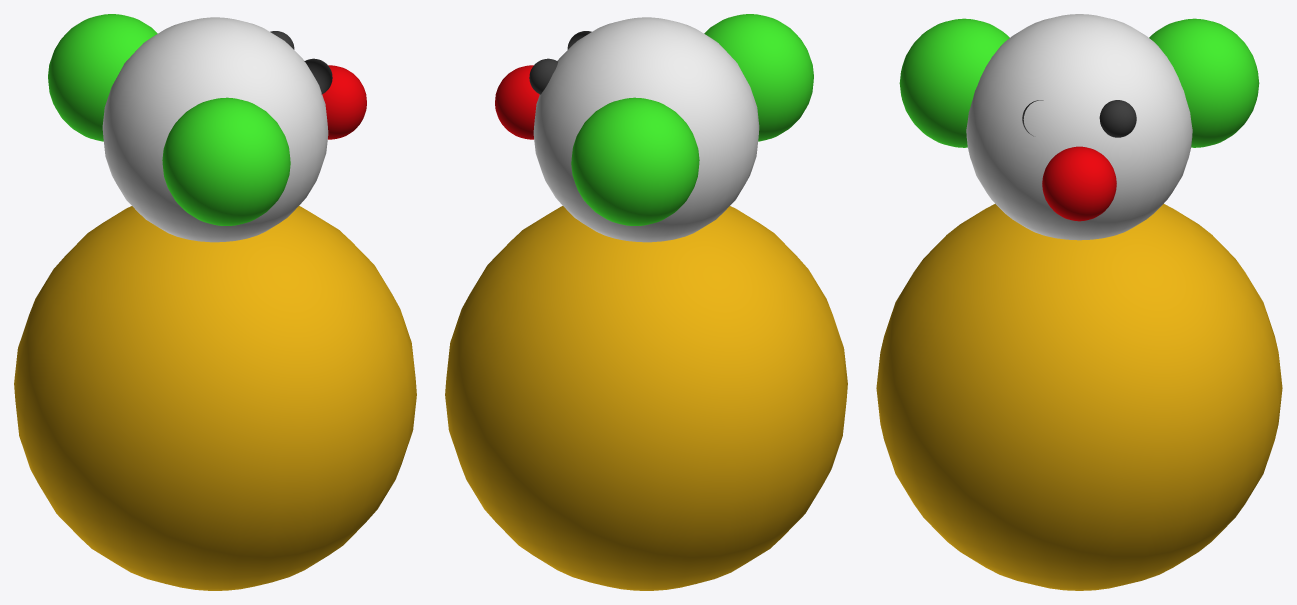
File: clown.glb
3 views of the same model, side by side, from view 1: azimuth 30°, elevation 25°; view 2: azimuth 150°, elevation 25°; view 3: azimuth 270°, elevation 25° (orthographic).
Parts seen in each view (by area): view 1: Sphere; view 2: Sphere; view 3: Sphere.
Part boxes in pixels (x1,y1,x2,y2): Sphere: (14,14,416,590); Sphere: (445,14,847,590); Sphere: (876,14,1282,590).
Size of the model in its own units: 2 by 2.98 by 2.
